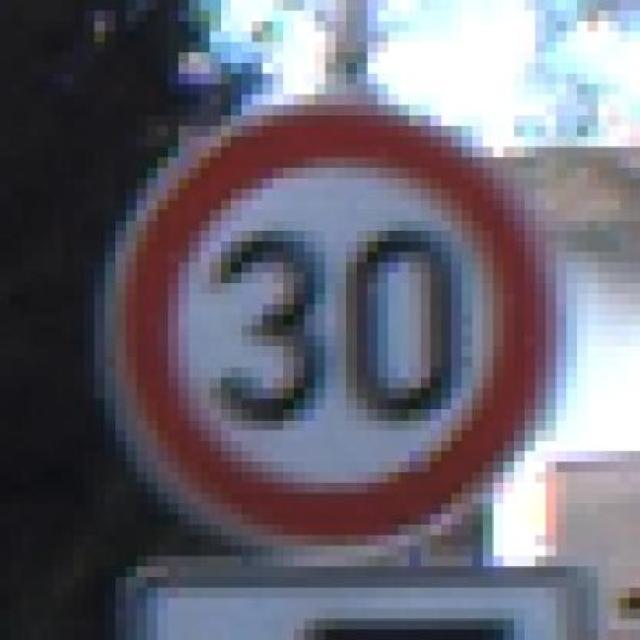Speed Limit 30 KMPh: (52, 73, 630, 556)
